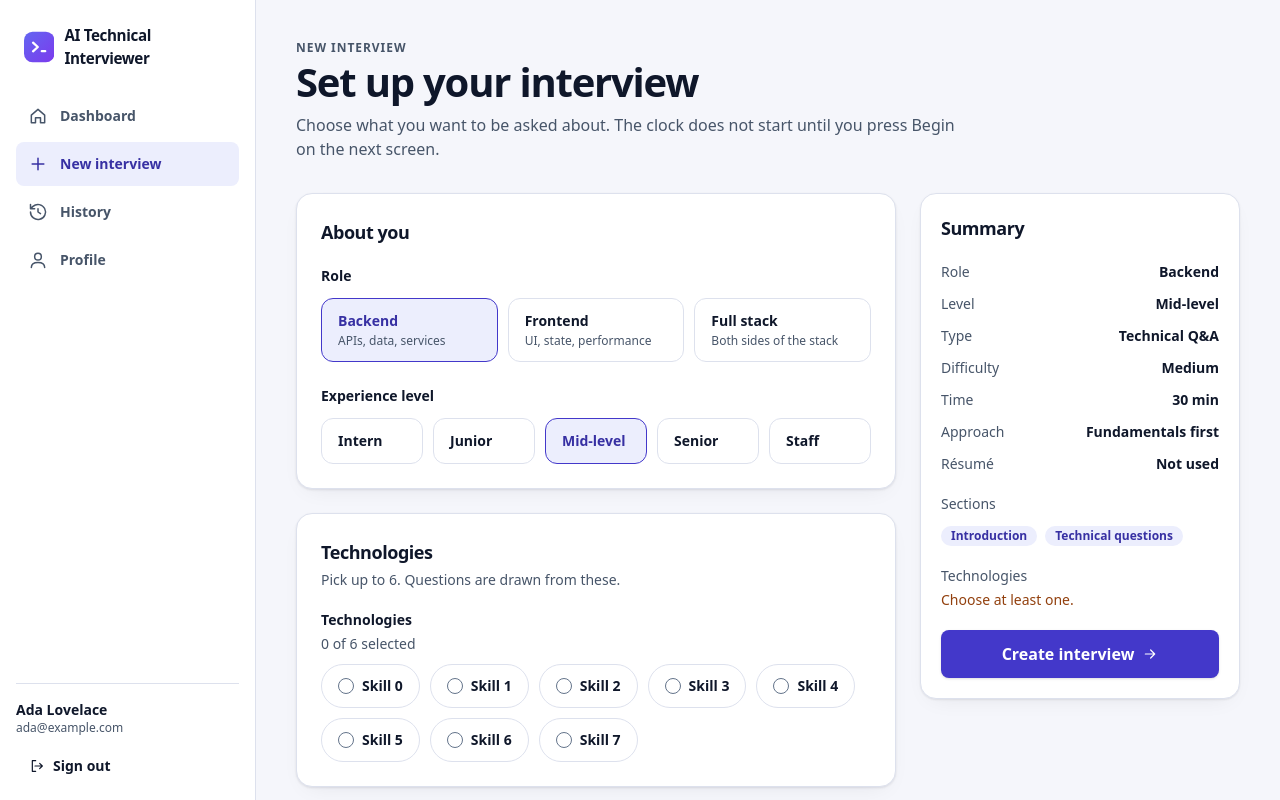
Test: SetupPage › stops offering technologies after six are chosen
This screenshot has width=1280, height=800.
Step 1. Click the checkbox labelled "Skill 0" → (370, 686), box [321,664,420,708]
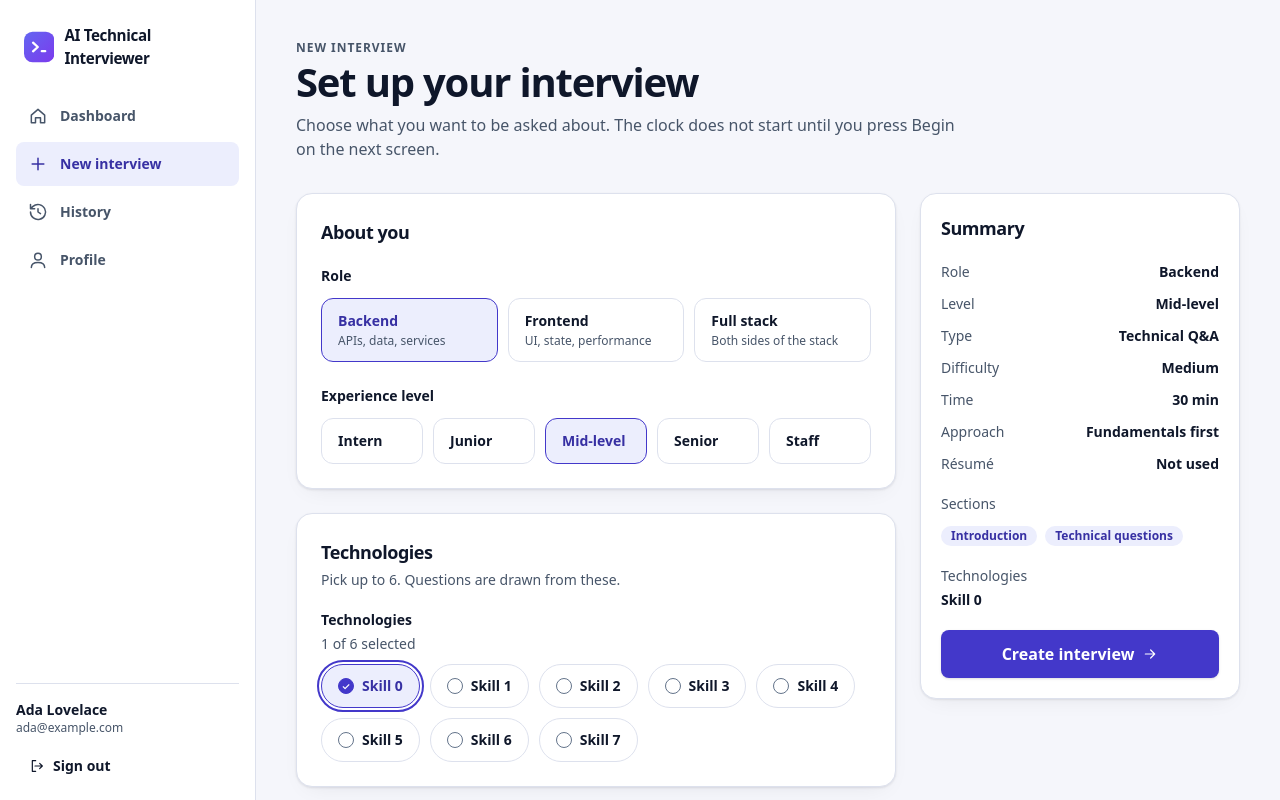
Step 2. Click the checkbox labelled "Skill 1" → (479, 686), box [430,664,529,708]
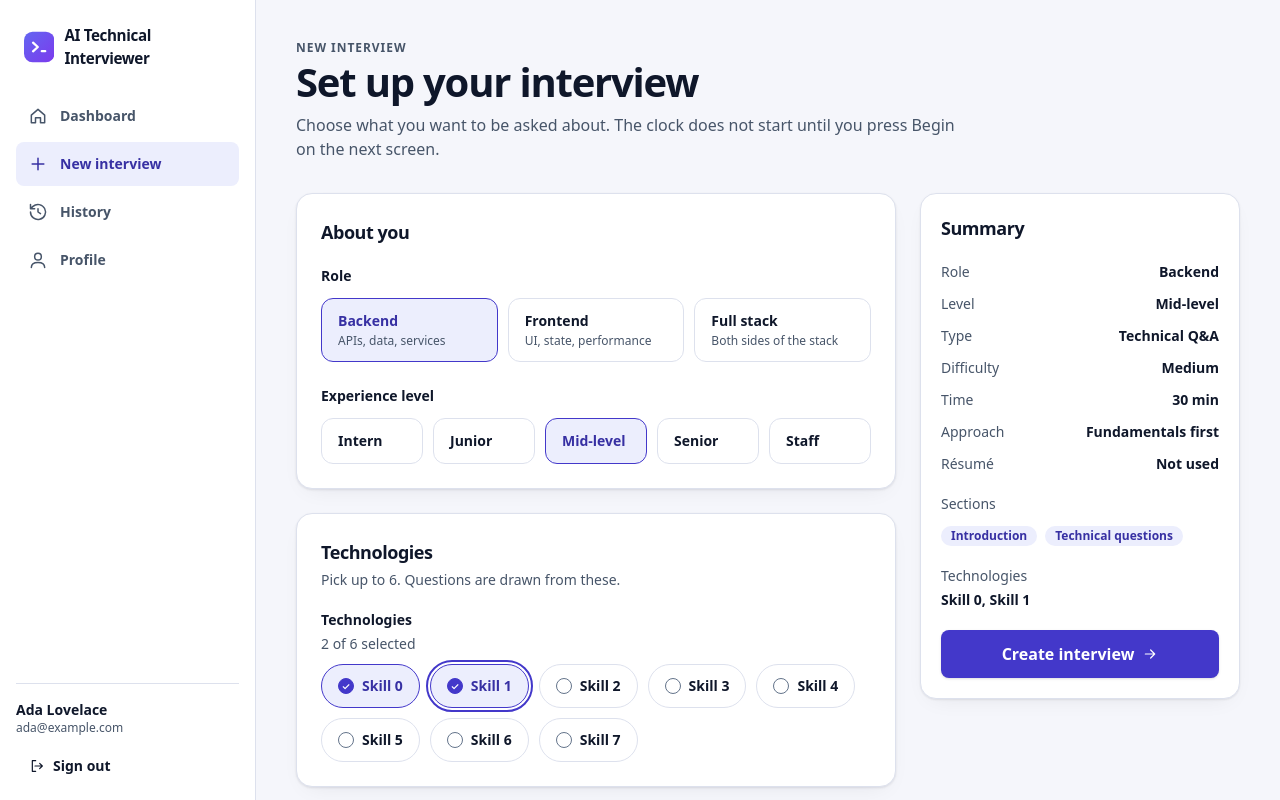
Step 3. Click the checkbox labelled "Skill 2" → (588, 686), box [539,664,638,708]
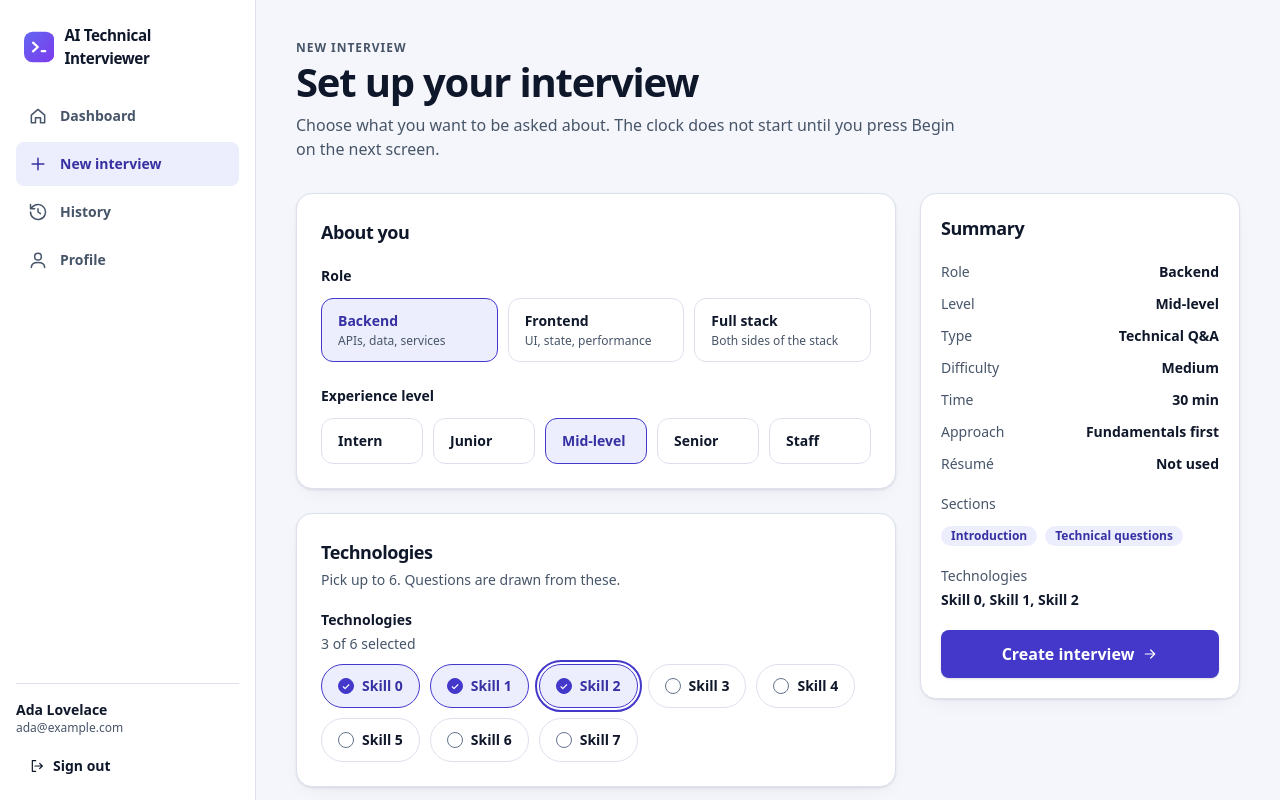
Step 4. Click the checkbox labelled "Skill 3" → (697, 686), box [648,664,746,708]
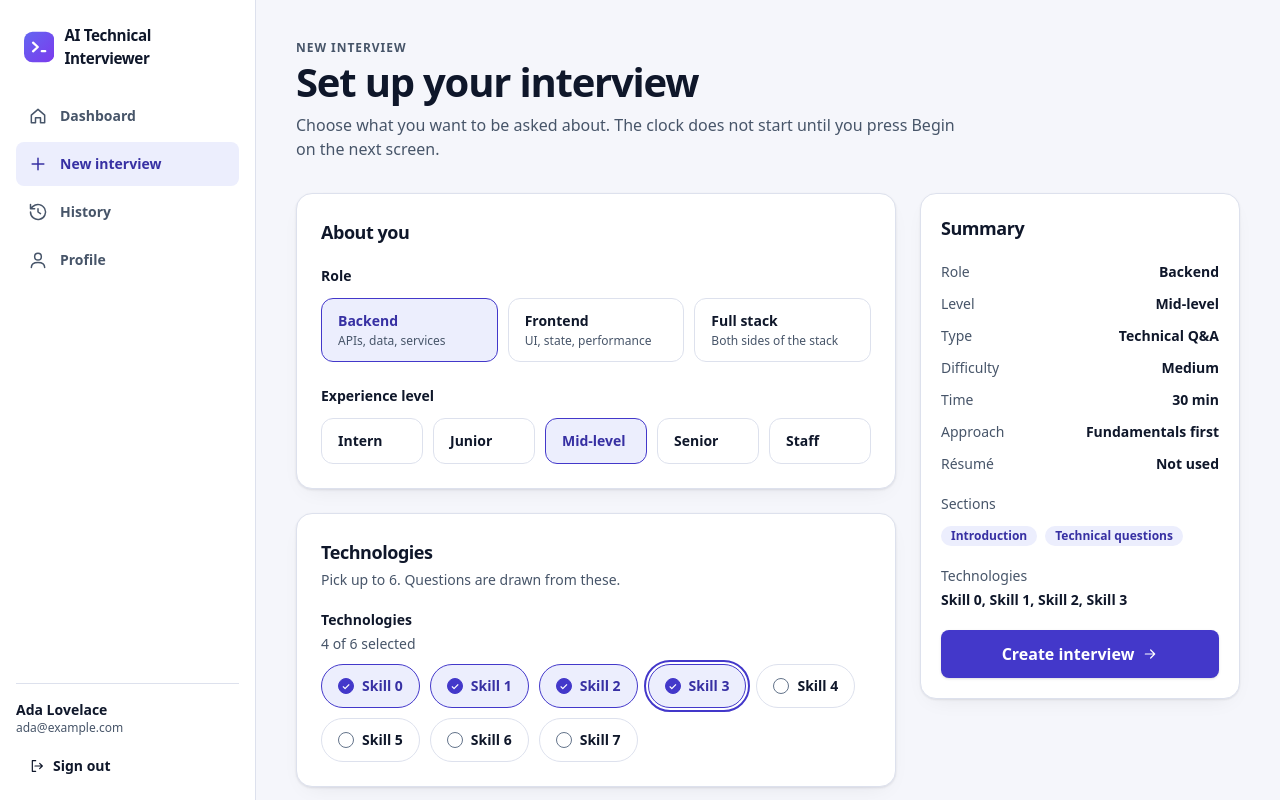
Step 5. Click the checkbox labelled "Skill 4" → (806, 686), box [756,664,855,708]
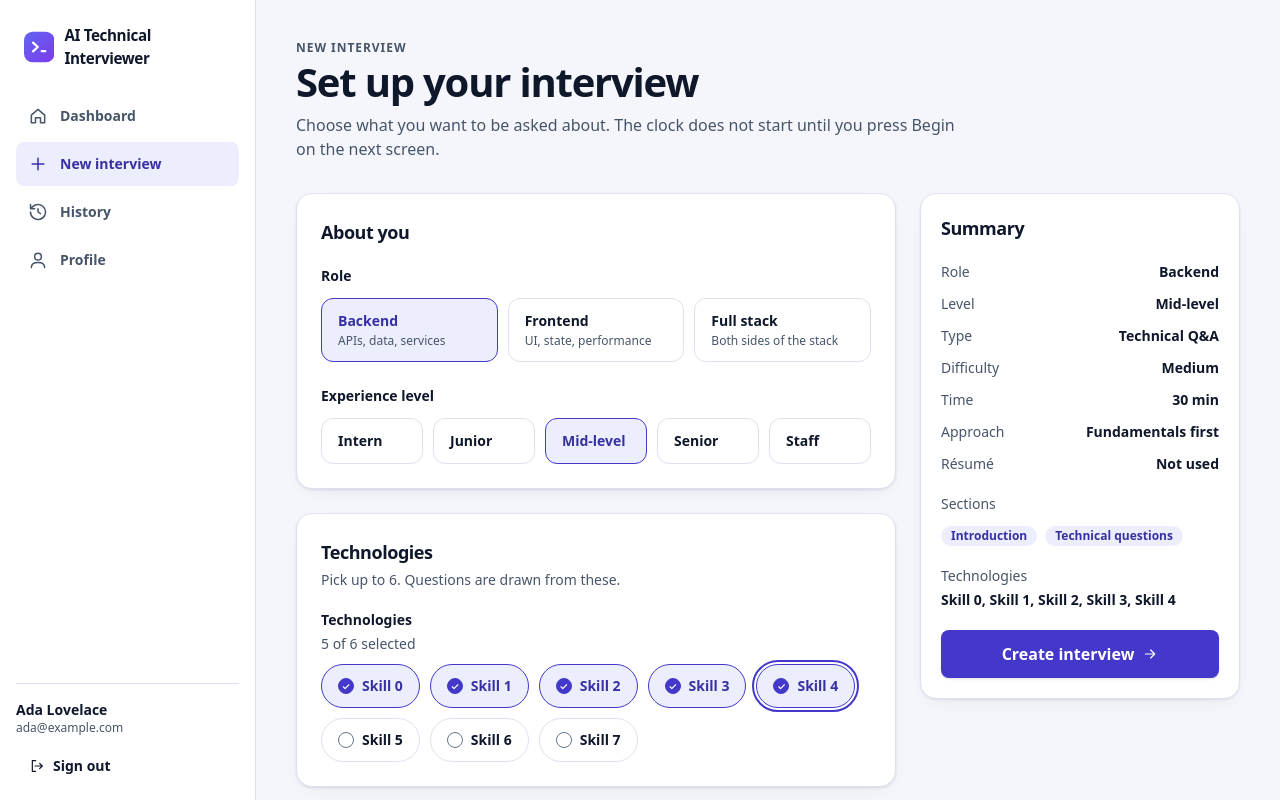
Step 6. Click the checkbox labelled "Skill 5" → (370, 740), box [321,718,420,762]
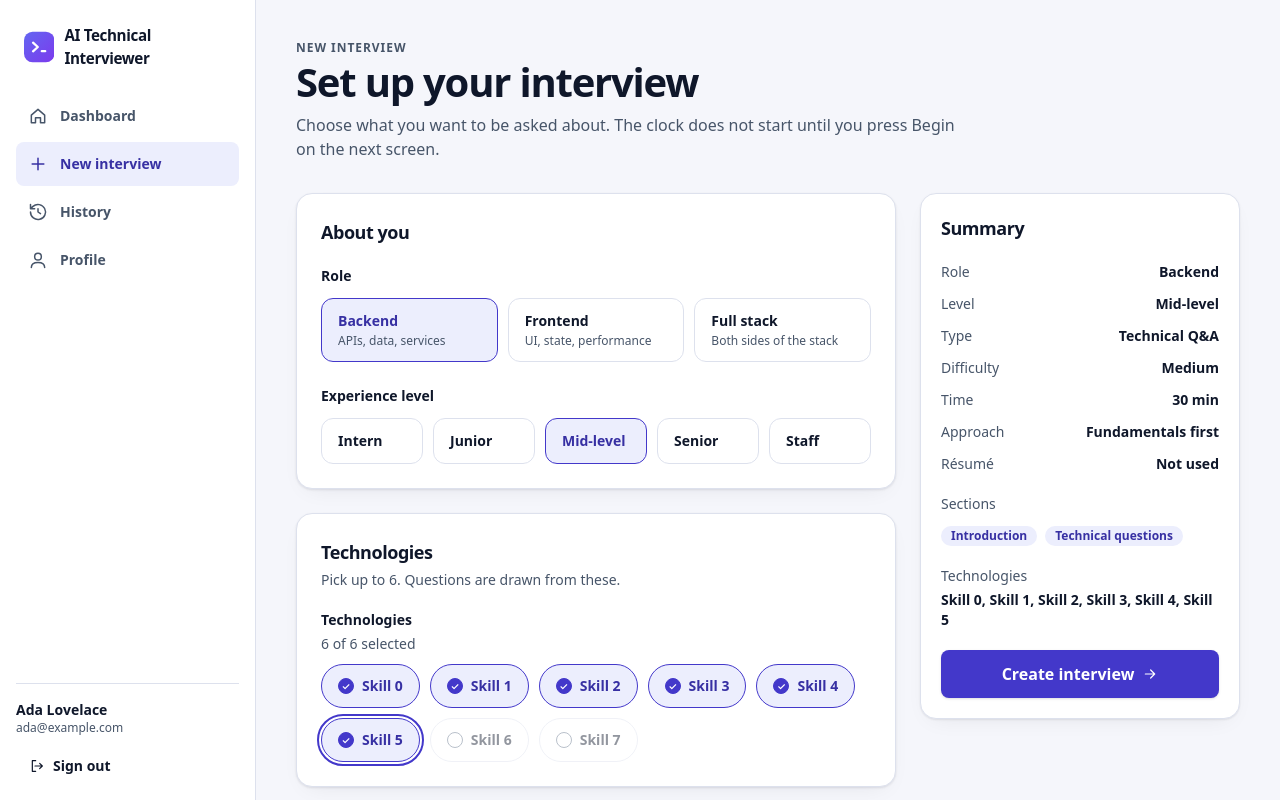
expect the checkbox labelled "Skill 0" is enabled: met, box [321,664,420,708]
expect the checkbox labelled "Skill 6" is disabled: met, box [430,718,529,762]
expect the text "6 of 6 selected" is shown: met, box [321,634,416,653]
